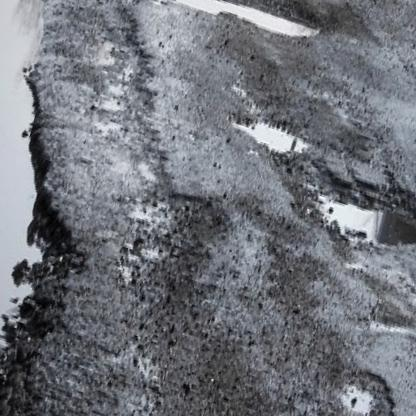pothole: (304, 153, 416, 277), (159, 0, 334, 62), (224, 104, 320, 167), (332, 358, 396, 416)
